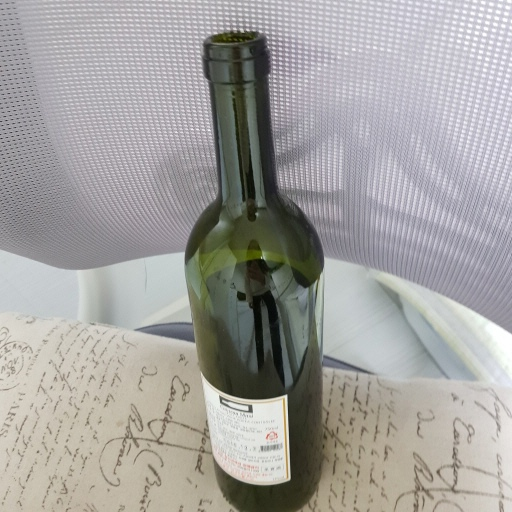Glass_2: (175, 28, 331, 512)
